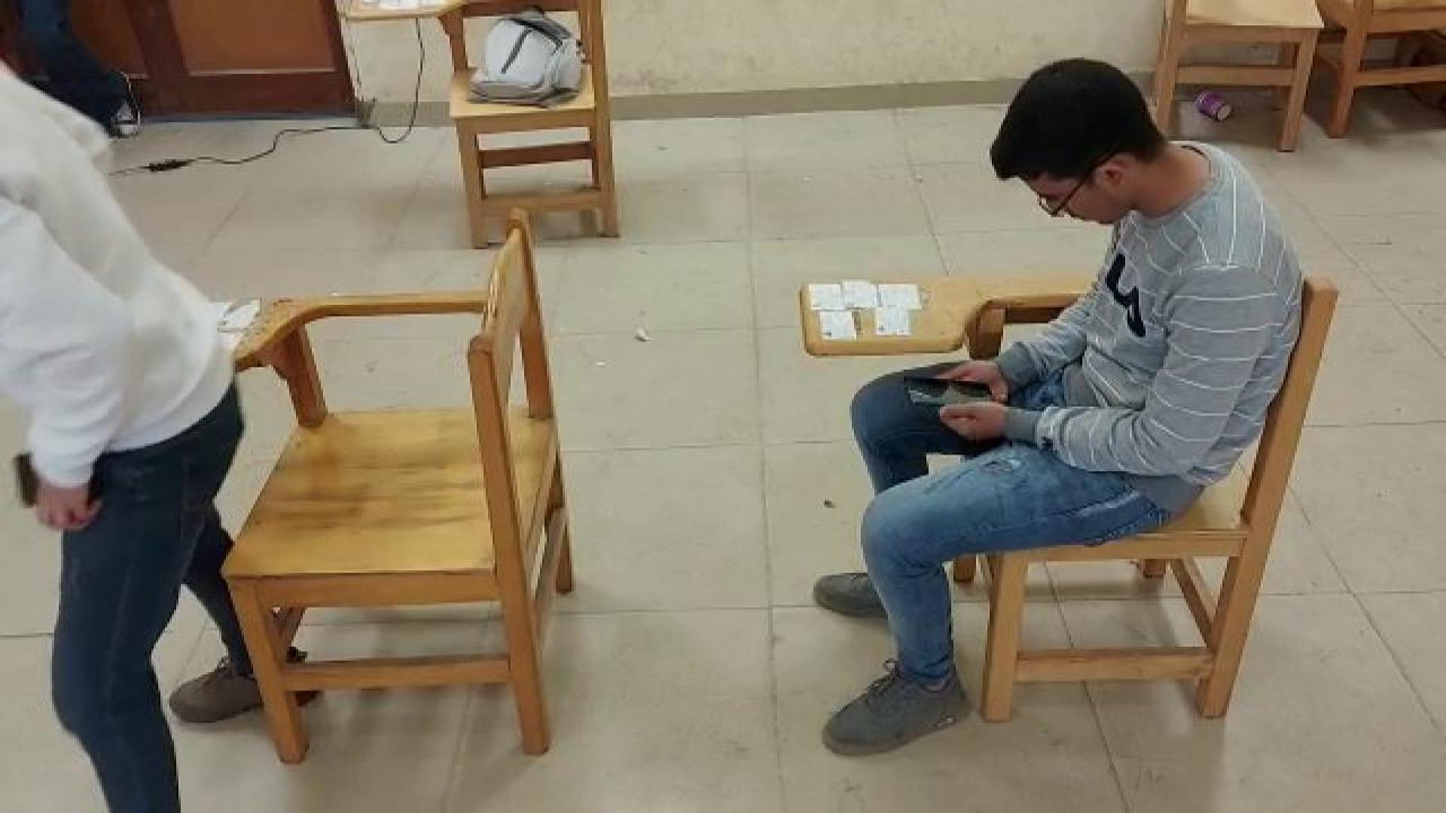phone: (901, 372, 1003, 420)
